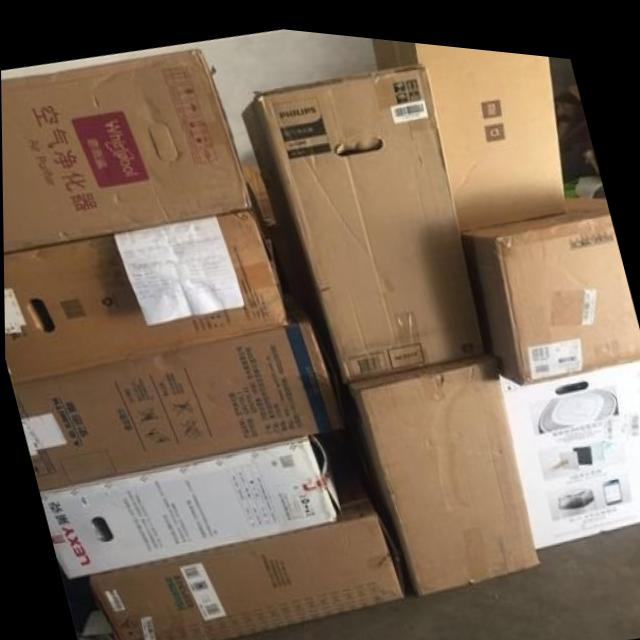box: (239, 53, 486, 371), (12, 313, 343, 492), (3, 178, 288, 384), (84, 472, 401, 640), (1, 47, 251, 254), (344, 346, 538, 591), (40, 427, 342, 581), (371, 30, 567, 220), (462, 183, 640, 373), (497, 345, 640, 539)
